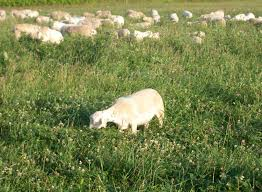sheep: (88, 85, 164, 134), (133, 26, 161, 47), (38, 25, 64, 47), (14, 24, 42, 44), (68, 16, 94, 36), (203, 3, 226, 25), (233, 10, 262, 27), (96, 10, 122, 27), (124, 7, 148, 25), (12, 7, 37, 21), (34, 13, 54, 27), (115, 27, 133, 41), (50, 11, 71, 22), (148, 8, 162, 24), (164, 12, 180, 25), (83, 14, 97, 27), (182, 9, 194, 20)
